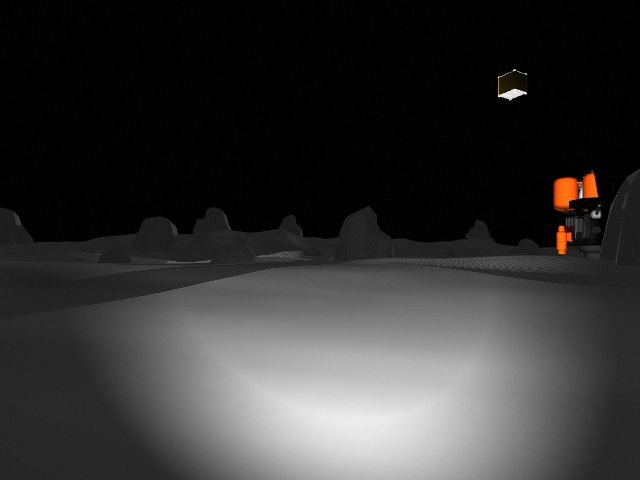cubesat: (491, 63, 533, 107)
